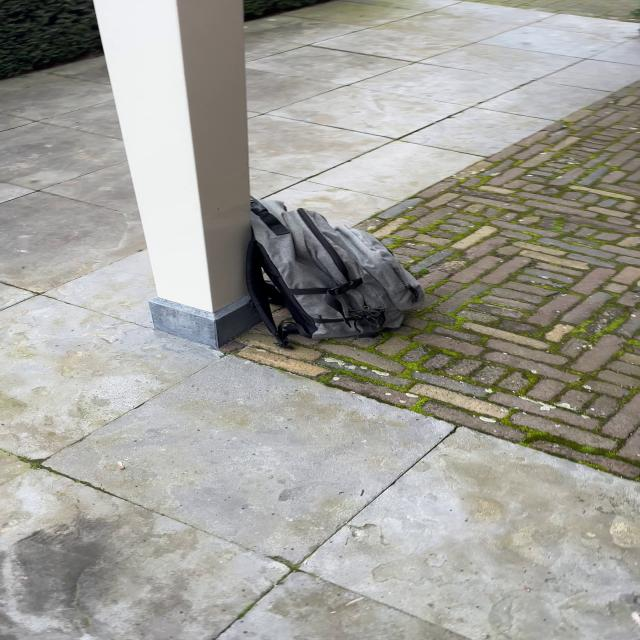backpack: (230, 194, 432, 348)
